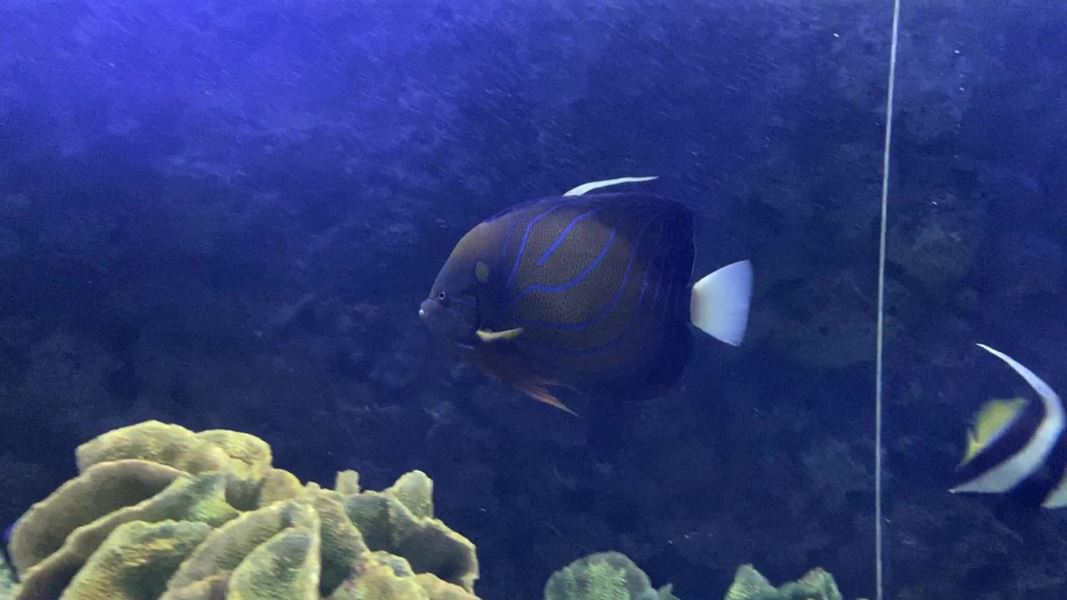Blue ring angelfish: (384, 177, 799, 435)
